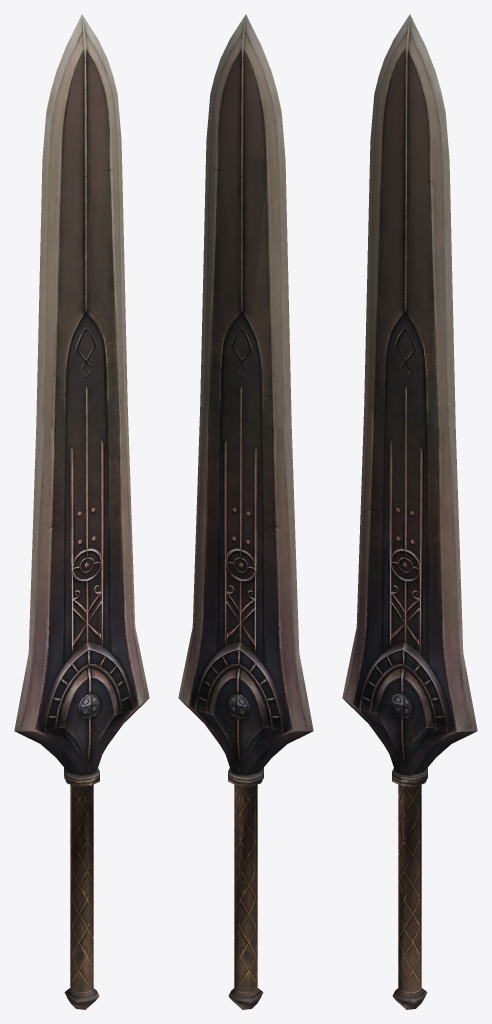
File: Weapon_18.fbx
3 renders of one model, left to right at view 1: azimuth 30°, elevation 25°; view 2: azimuth 150°, elevation 25°; view 3: azimuth 330°, elevation 25°, orthographic.
Parts seen in each view (by area): view 1: Weapon_18; view 2: Weapon_18; view 3: Weapon_18.
Boxes of the visible parts, x1=… form: Weapon_18: x1=14, y1=14, x2=149, y2=1009; Weapon_18: x1=178, y1=14, x2=313, y2=1009; Weapon_18: x1=342, y1=14, x2=477, y2=1009.
Bounding box in the file's own units: 23.48 × 5.29 × 165.
